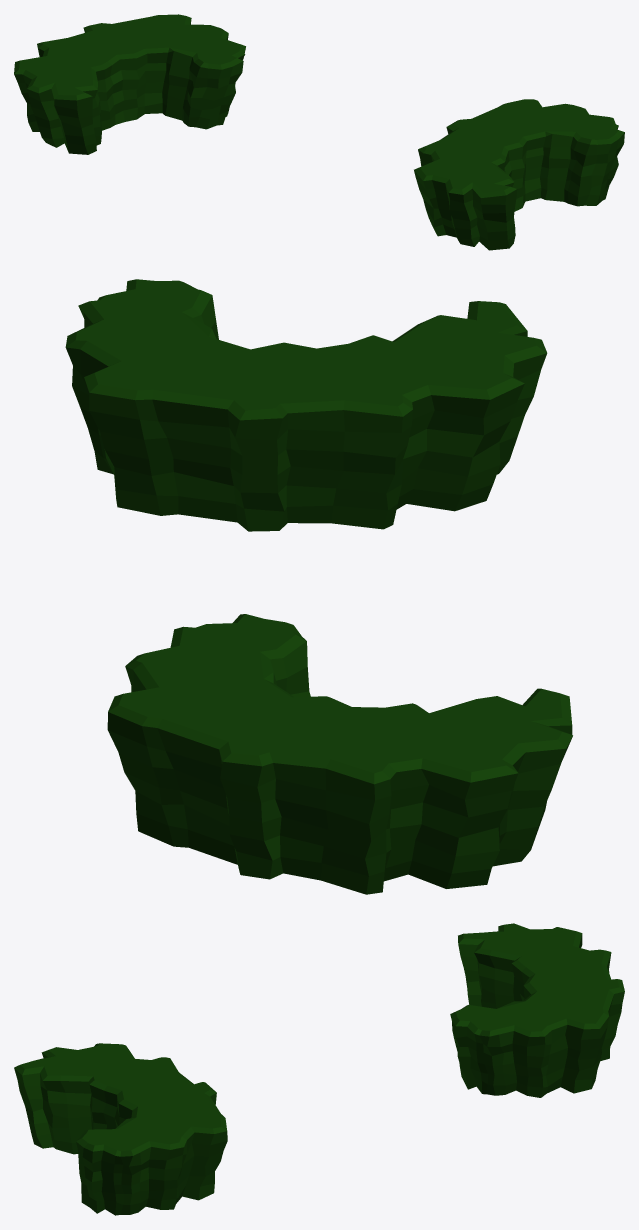
Rendered from Cliff_2.glb.
The picture shows the model from 3 angles, top to bottom: view 1: azimuth 30°, elevation 25°; view 2: azimuth 150°, elevation 25°; view 3: azimuth 270°, elevation 25°; orthographic projection. The views are drawn at different scales.
Visible parts, largest first — view 1: Cliff_2.002; view 2: Cliff_2.002; view 3: Cliff_2.002.
Part boxes in pixels (bbox=[...]): Cliff_2.002: bbox=[14, 14, 624, 250]; Cliff_2.002: bbox=[65, 279, 572, 894]; Cliff_2.002: bbox=[14, 923, 624, 1215].
Bounding box in the file's own units: 127 × 21.59 × 145.
